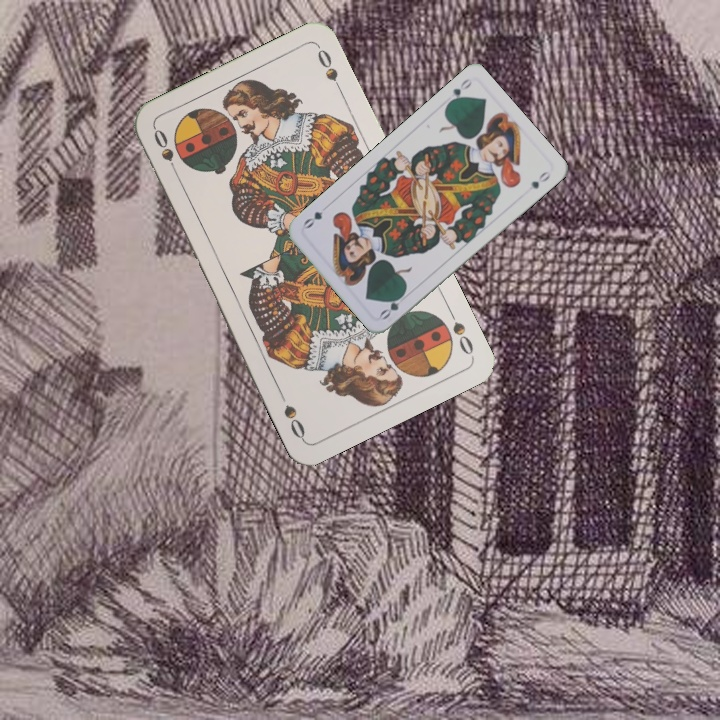GO: (376, 288, 410, 322), (443, 74, 475, 108)
SO: (149, 124, 182, 181), (443, 304, 476, 358)
